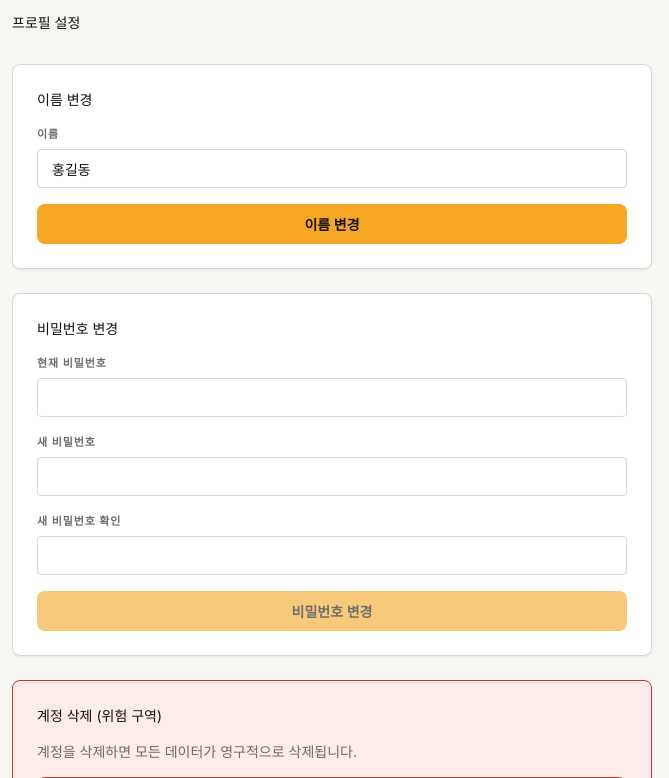
Test: ProfilePage › 이름 변경 섹션 › 이름 변경 성공 시 성공 메시지를 표시한다
Replace the text in the field showing "홍길동" with "새이름": (332, 168) [37,149,627,188]
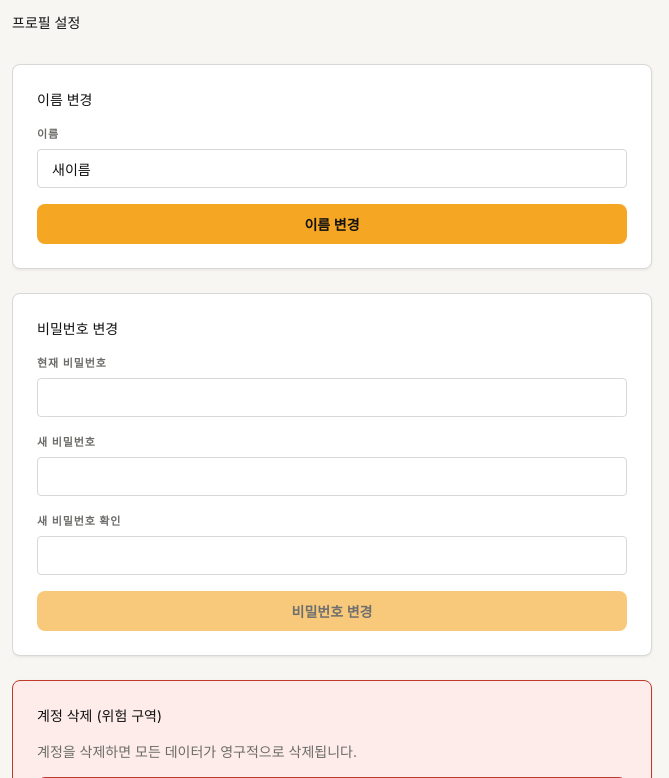
Click the button "이름 변경": (332, 224) [37,204,627,244]
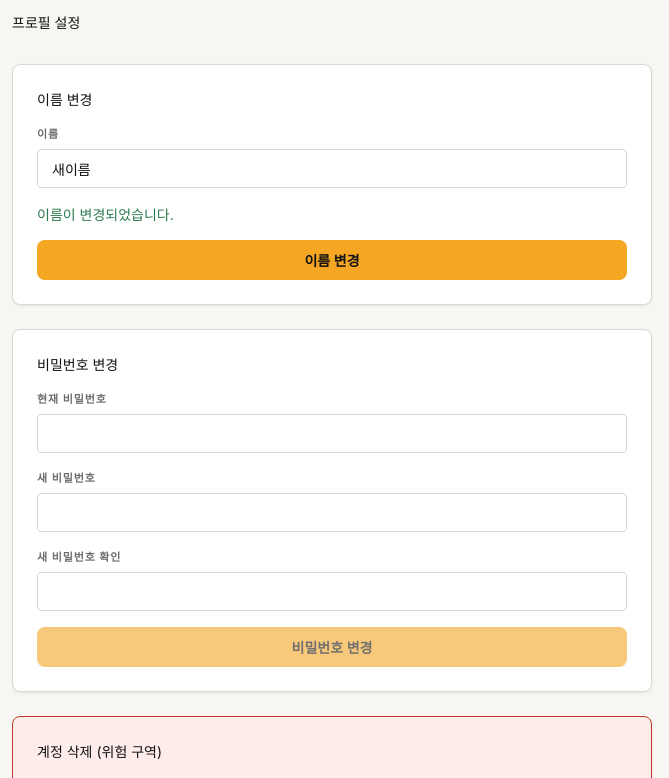
Expected: the text "이름이 변경되었습니다." is shown, [37,206,174,223]
